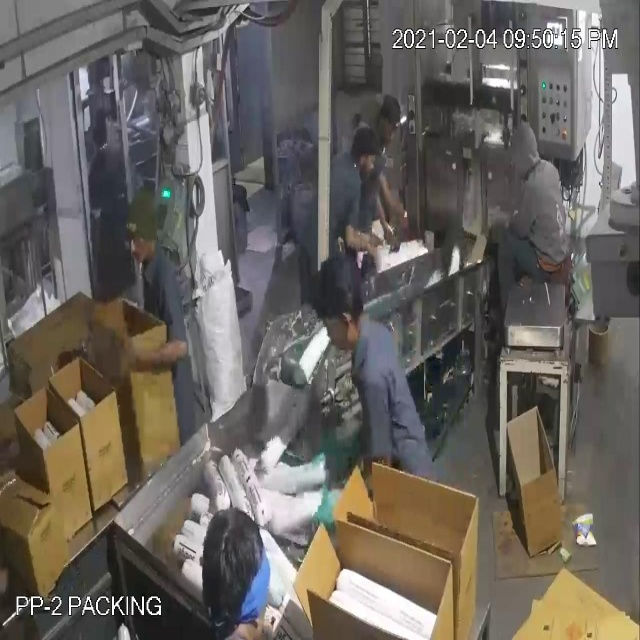Sin_guantes: (106, 314, 204, 390), (371, 177, 412, 228), (340, 212, 385, 256)
